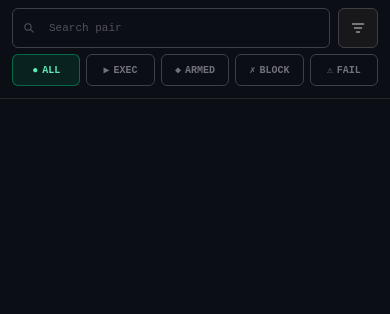
mobile scanner filters › opens and closes the advanced filter panel
Click the button named "Filters" at point(358, 28), box [338,8,378,48]
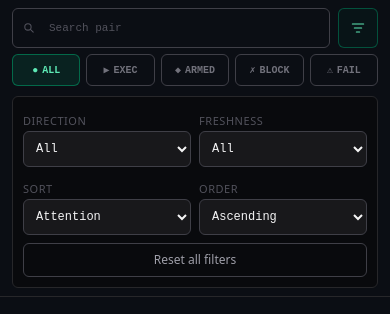
expect the button named "Filters" is expanded: met
expect the dropdown labelled "Direction" is shown: met, box [23,131,191,167]
expect the dropdown labelled "Freshness" is shown: met, box [199,131,367,167]
Click the button named "Filters" at point(358, 28), box [338,8,378,48]
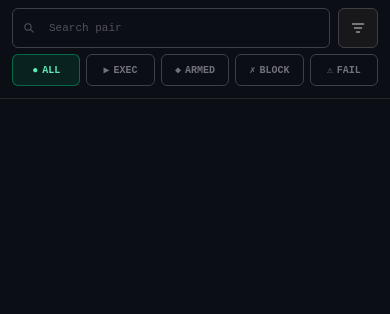
expect the button named "Filters" is collapsed: met, box [338,8,378,48]
expect the text labelled "Direction" is gone: met
